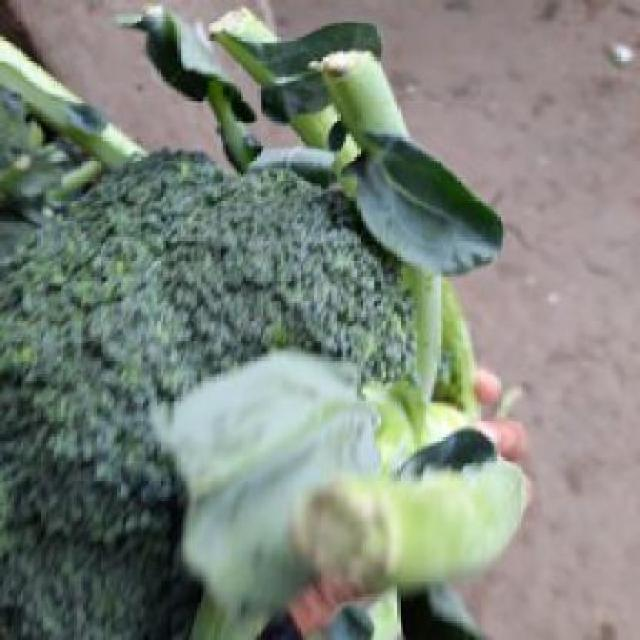broccoli: (14, 77, 517, 632)
